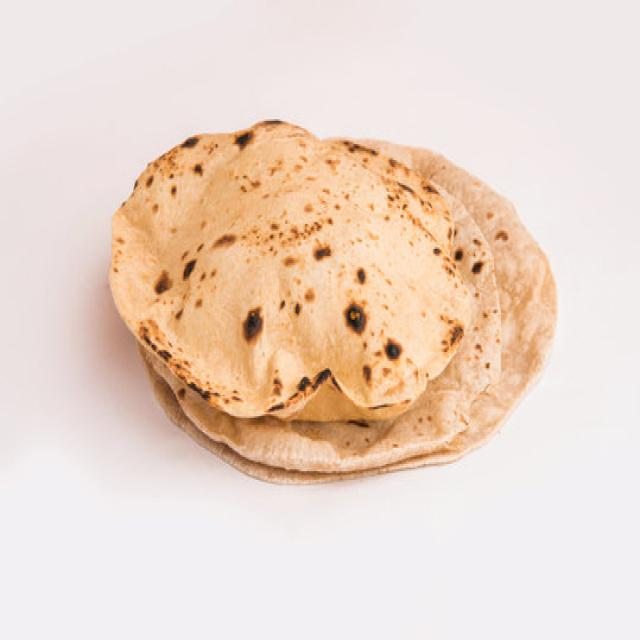ROTI: (107, 123, 498, 418)
